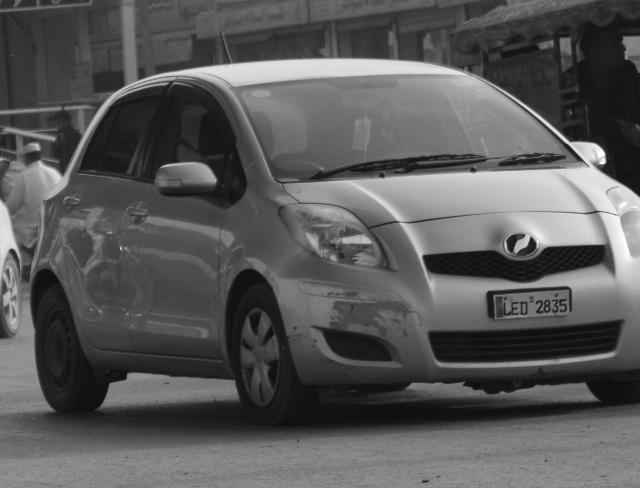Number: (499, 296, 569, 316)
